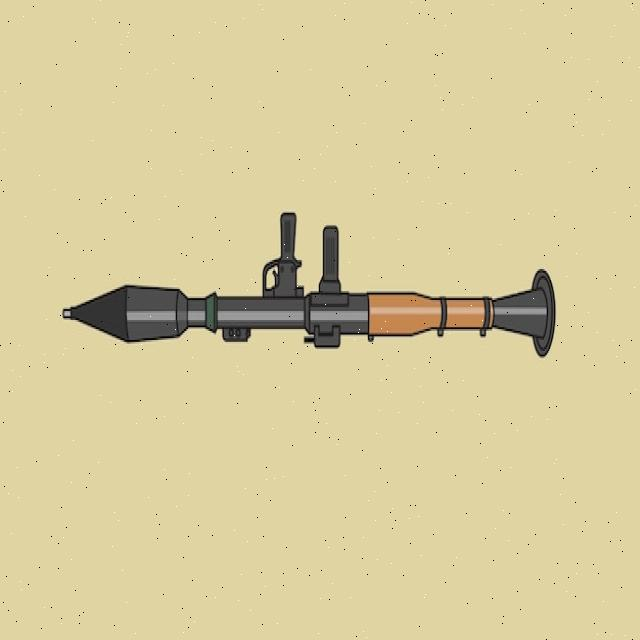bazooka: (59, 200, 564, 370)
